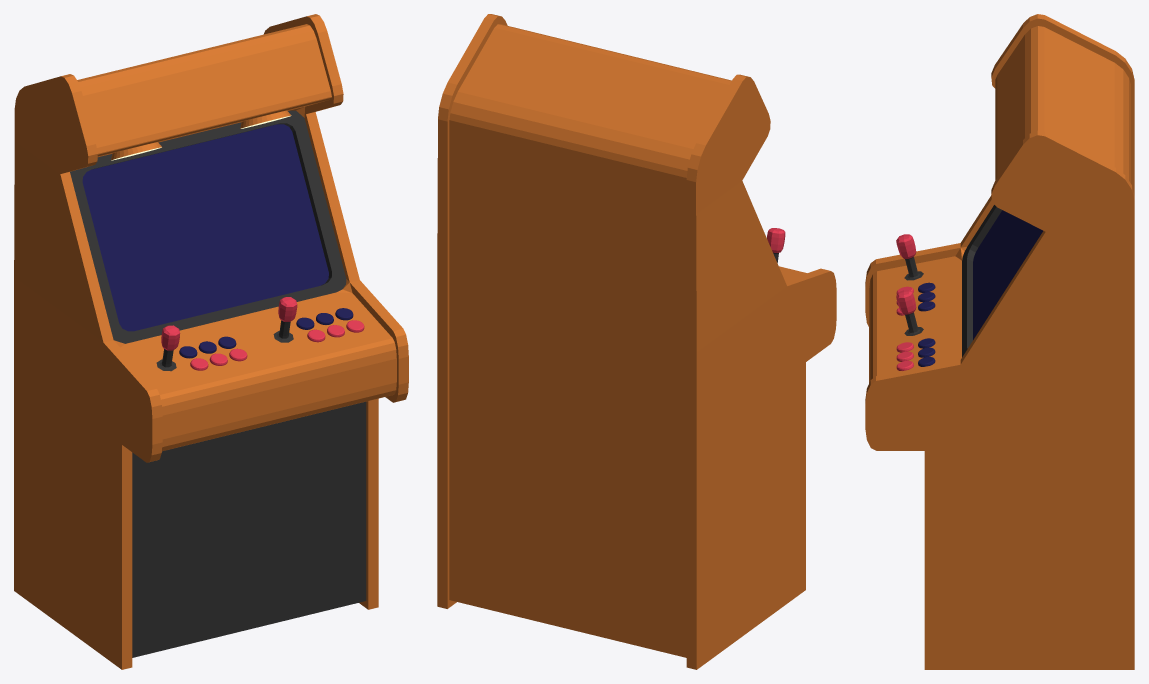
The model's file is arcade_cabinet.glb.
3 renders of one model, left to right at view 1: azimuth 30°, elevation 25°; view 2: azimuth 150°, elevation 25°; view 3: azimuth 270°, elevation 25°, orthographic. The views are drawn at different scales.
Visible parts, largest first — view 1: Cube, Cube.006, Cube.003, Cube.002, Cube.005; view 2: Cube; view 3: Cube, Cube.003, Cube.005, Cube.002, Cube.006.
Part boxes in pixels (x1,y1,x2,y2): Cube: (14,14,408,669); Cube.006: (179,336,247,370); Cube.003: (296,308,364,342); Cube.002: (273,297,297,342); Cube.005: (156,325,180,371); Cube: (437,14,836,669); Cube: (865,14,1134,669); Cube.003: (896,338,935,370); Cube.005: (896,234,923,280); Cube.002: (896,289,923,335); Cube.006: (896,282,935,315).
Bounding box in the file's own units: 0.7583 × 1.55 × 0.7085.
